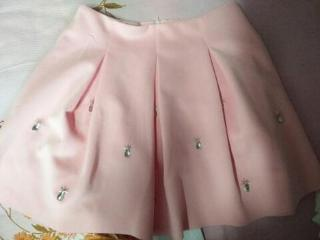skirt: (0, 1, 319, 239)
